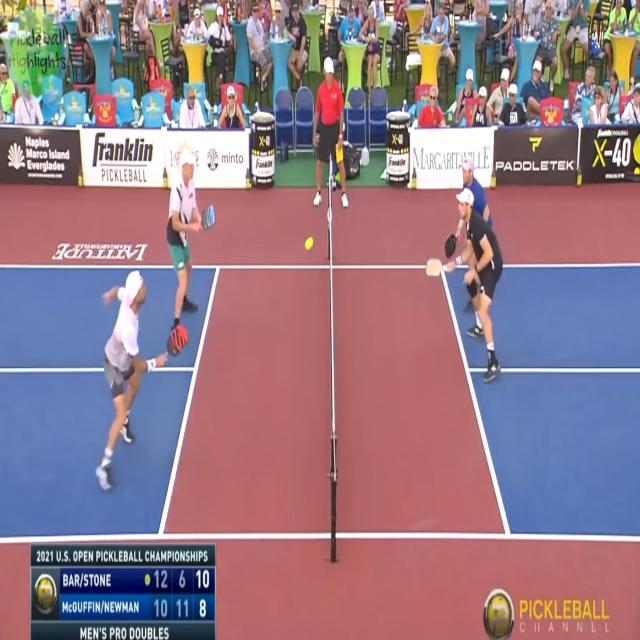ball: (301, 226, 318, 261)
